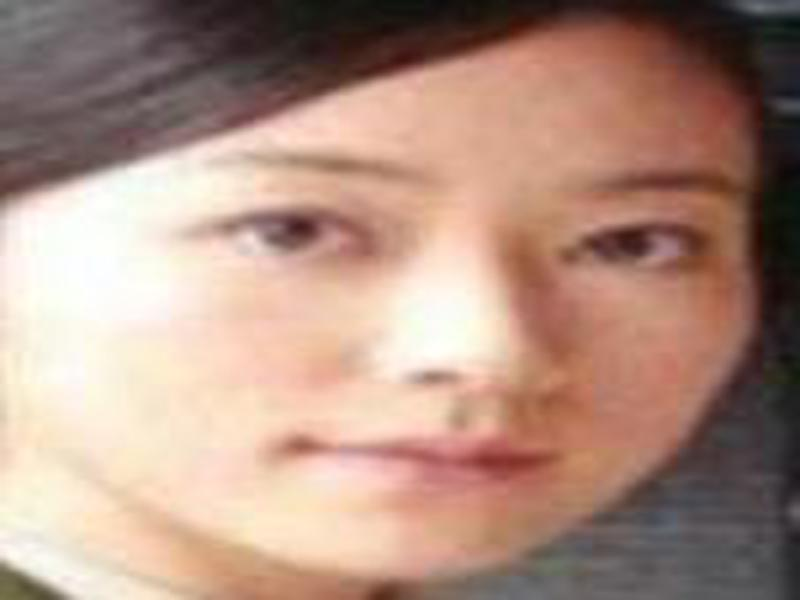without_mask: (8, 82, 759, 584)
